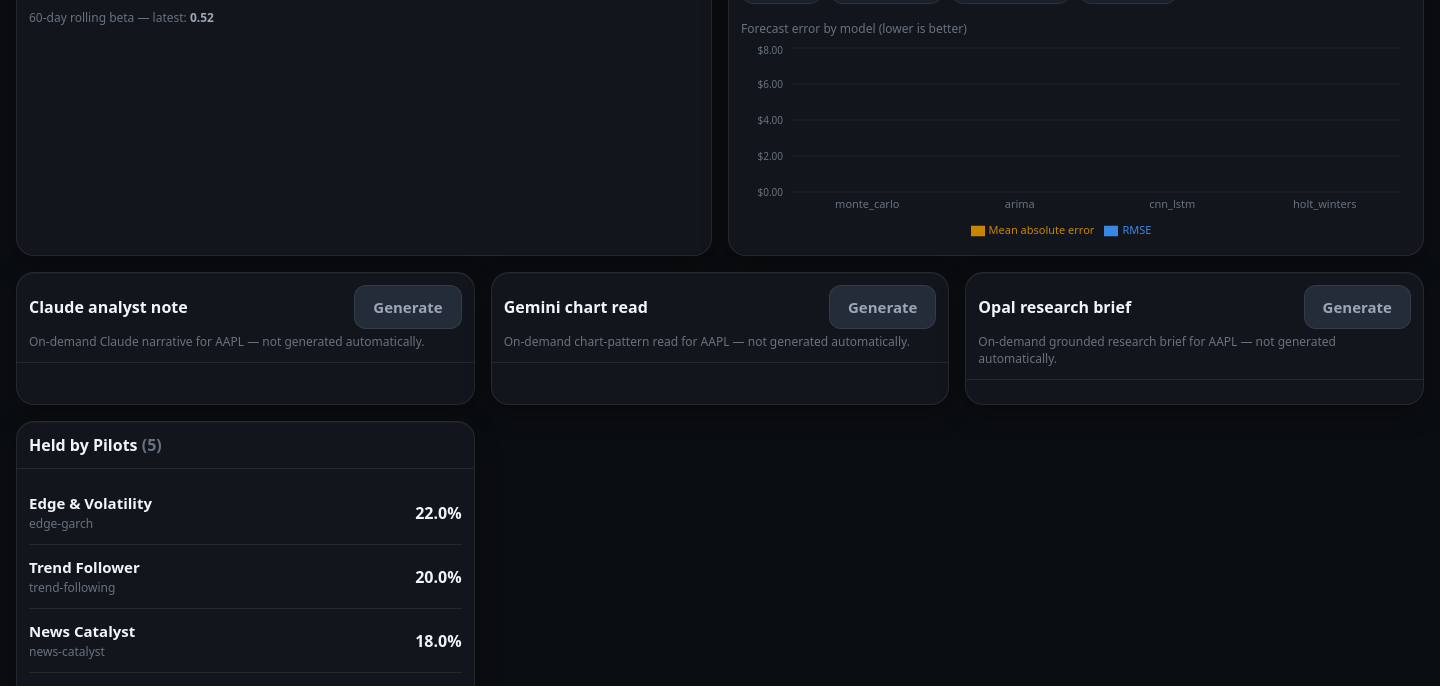
Test: SymbolDetail screen (real mock API) › On-demand AI generation cards › Claude analyst note: Generate renders headline / why_now / key risks / invalidation for a known symbol
The width and height of the screenshot is (1440, 686).
(page scrolled)
Click the button "Generate" in the row of "Claude analyst note" at (408, 307), box [354, 285, 462, 329]
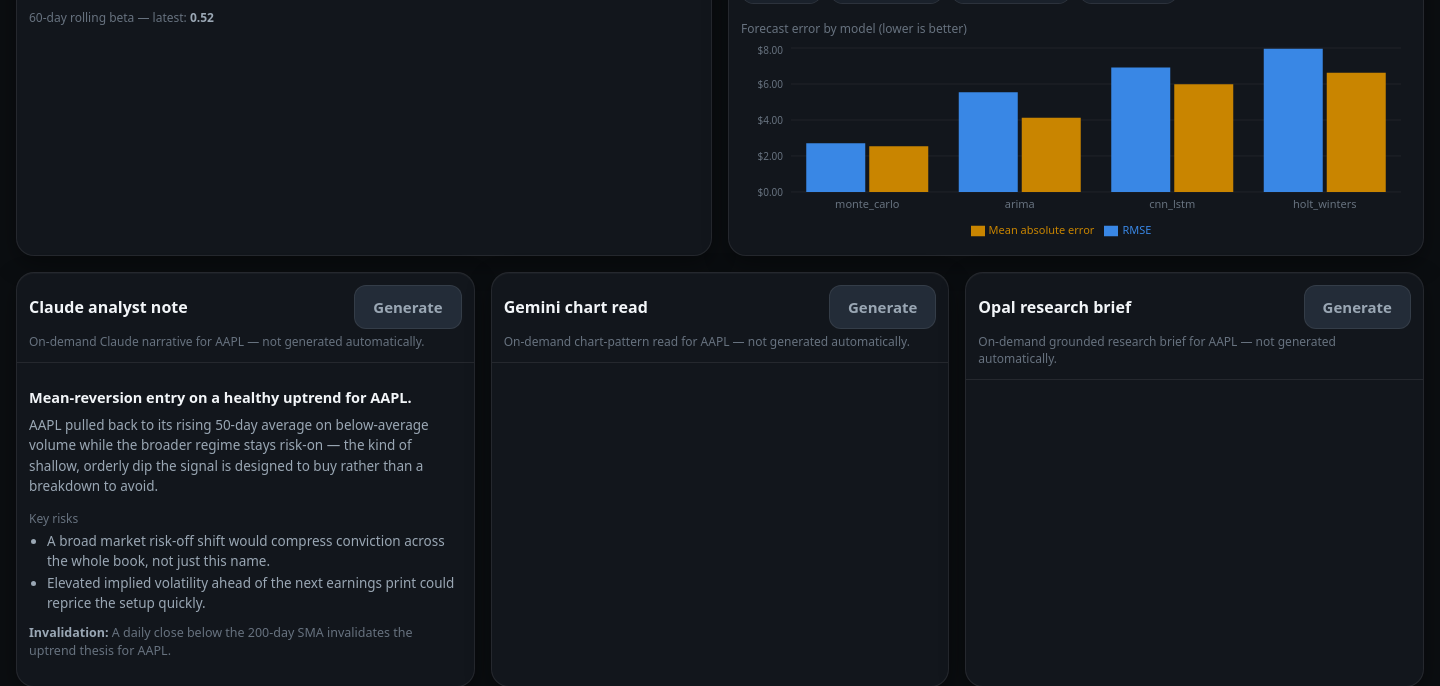
Expected: the text "Mean-reversion entry on a healthy uptrend for AAPL." is shown, [29, 387, 462, 407]
Expected: the text "shallow, orderly dip" is shown, [29, 416, 429, 495]
Expected: the text "Key risks" is shown, [29, 510, 78, 526]
